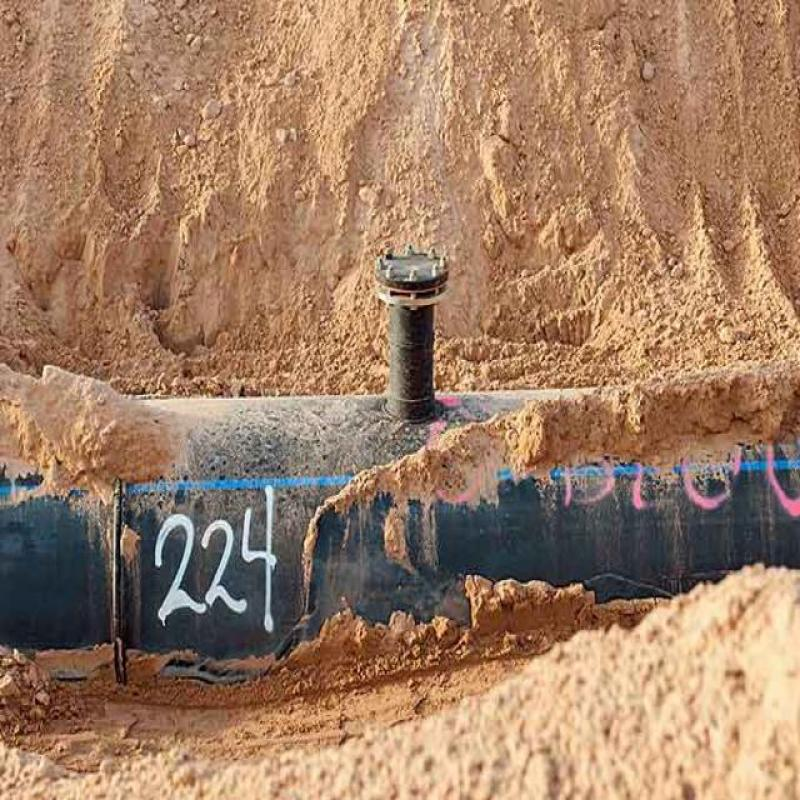Healthy: (37, 284, 782, 666)
